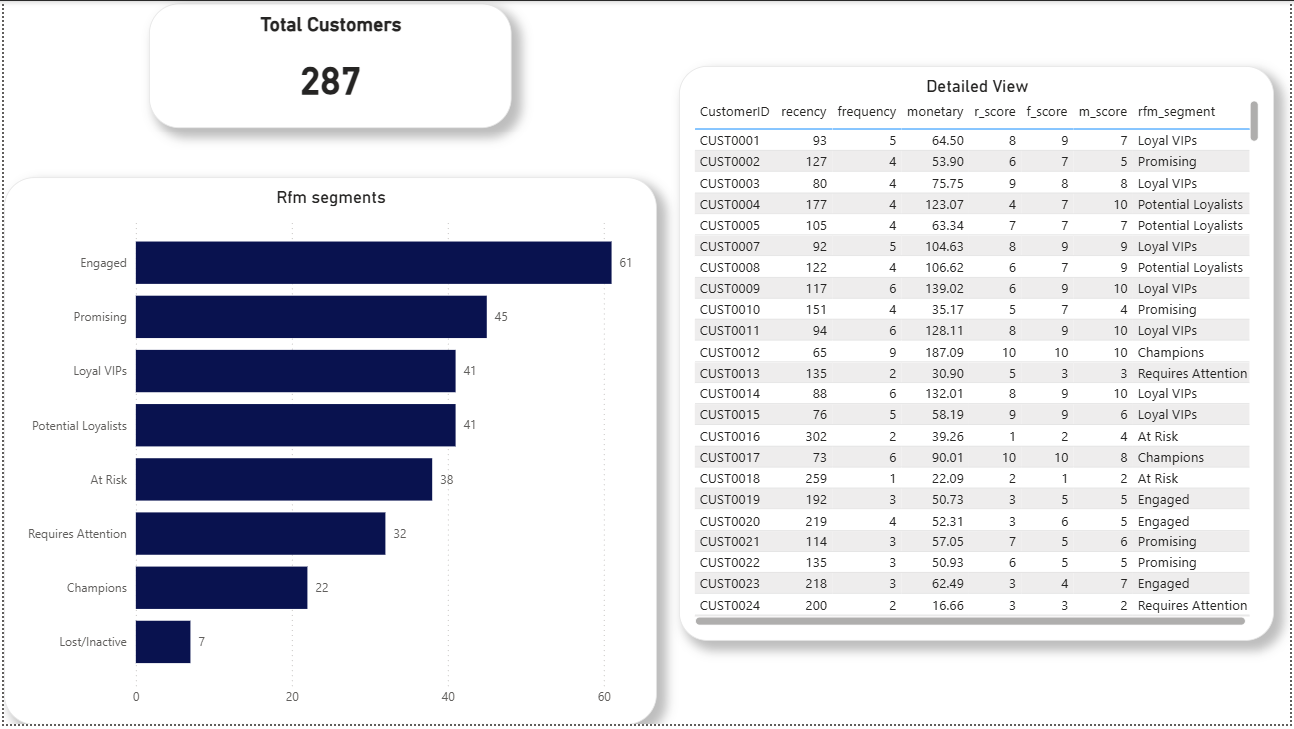

Layout of this report page (visuals, bound fields, positions):
{"tool":"powerbi","page":{"name":"Page 1","canvas":[1280,720],"ordinal":0},"visuals":[{"type":"card","title":"Total Customers","fields":{"Values":["Query1.total customers"]},"box":[144.3,2.5,360.7,124.4],"z":0},{"type":"tableEx","title":"Detailed View","fields":{"Values":["Query1.CustomerID","Query1.recency","Query1.frequency","Query1.monetary","Query1.r_score","Query1.f_score","Query1.m_score","Query1.rfm_segment"]},"box":[671.7,64.7,592.1,572.2],"z":1},{"type":"clusteredBarChart","title":"Rfm segments","fields":{"Category":["Query1.rfm_segment"],"Y":["CountNonNull(Query1.CustomerID)"]},"box":[0,175.4,649.3,544.9],"z":2}]}

Visuals, with their boxes in screenshot pixels (x1, y1, x2, y2), scaled from the page's 1280x720 canvas onto the 1294x729 screenshot:
"Total Customers" card: 146, 3, 511, 128
"Detailed View" tableEx: 679, 66, 1278, 645
"Rfm segments" clusteredBarChart: 0, 178, 656, 728
